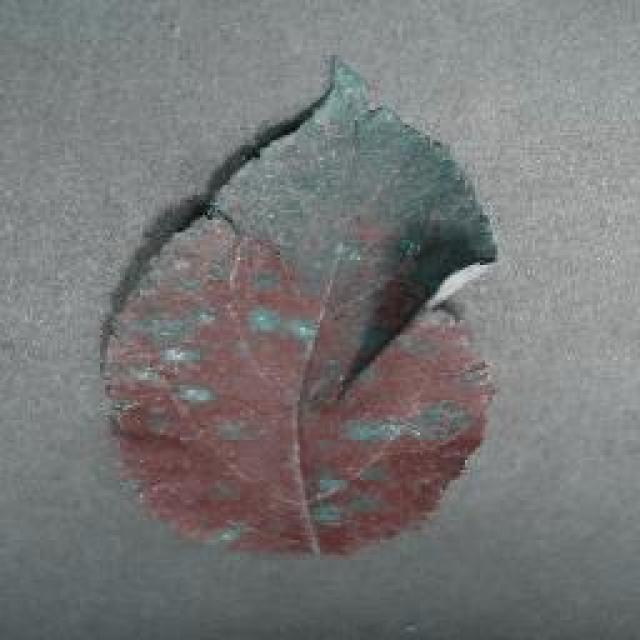apple cedar apple rust: (95, 52, 500, 560)
